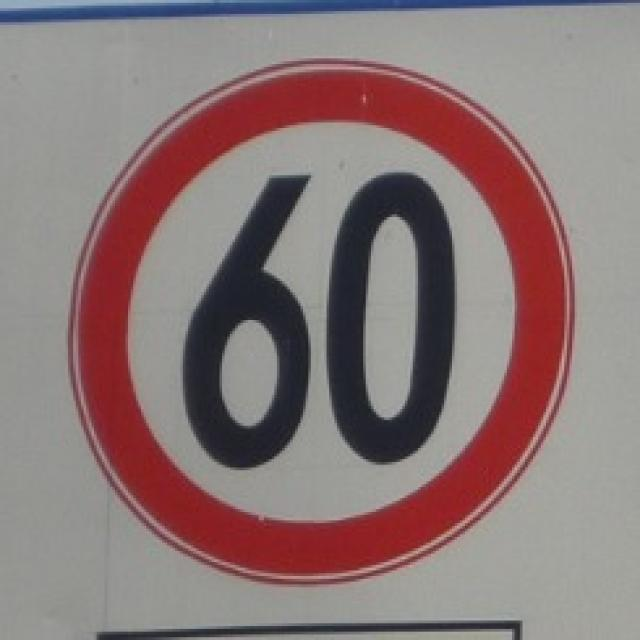Speed Limit -60-: (178, 166, 458, 473)
